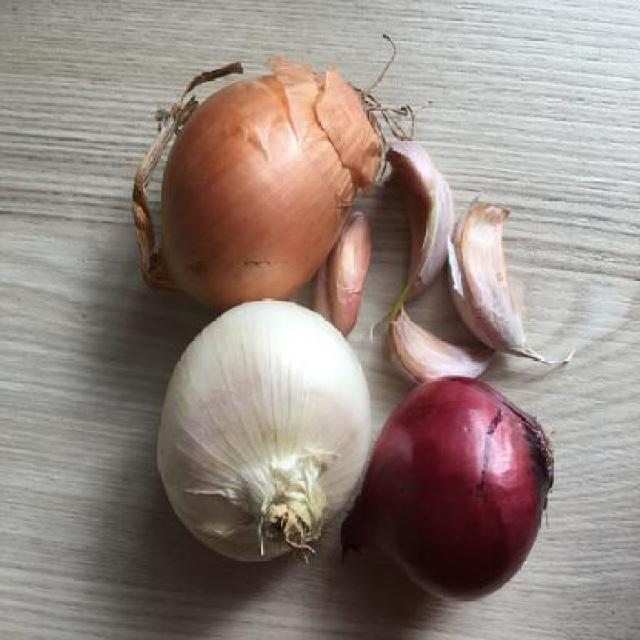Onion: (347, 379, 553, 600)
